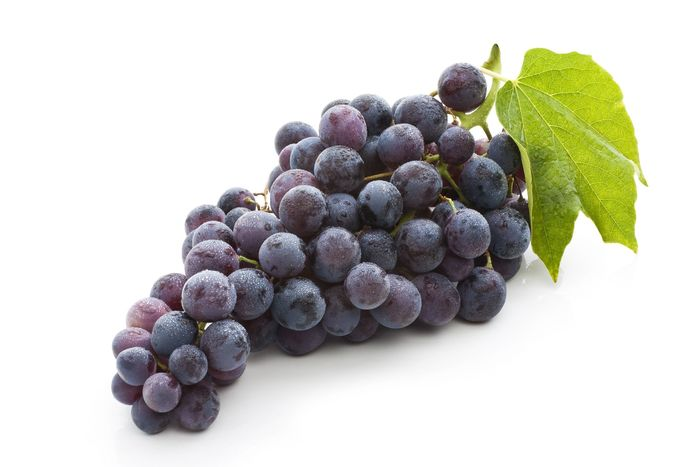Black grapes: (57, 47, 586, 435)
